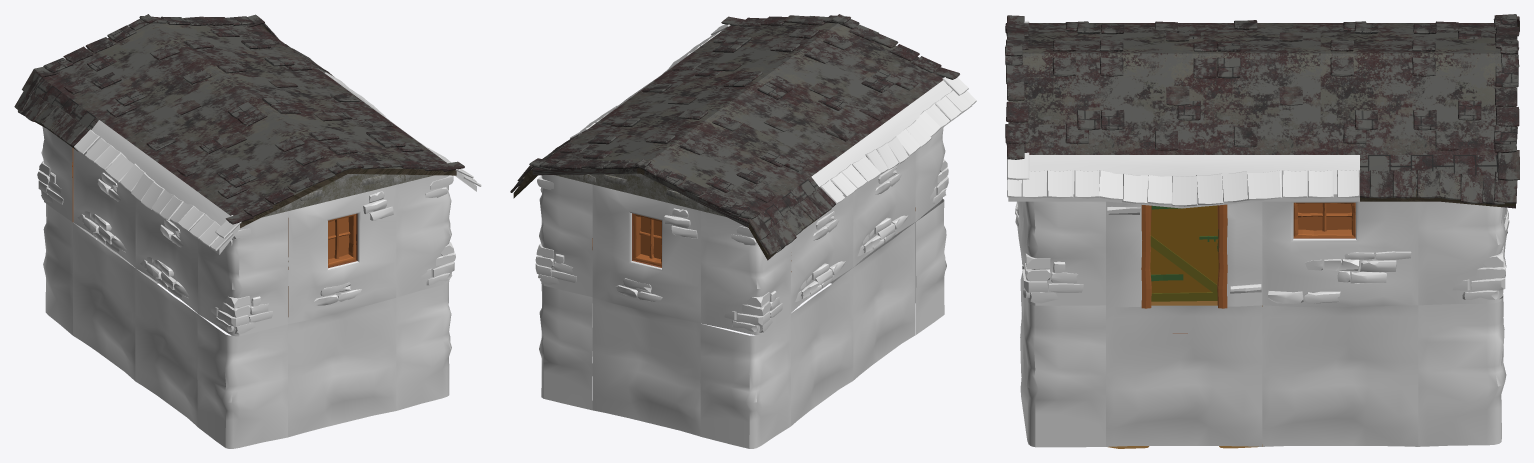
File: Modular_house_4.fbx
3 renders of one model, left to right at view 1: azimuth 30°, elevation 25°; view 2: azimuth 150°, elevation 25°; view 3: azimuth 270°, elevation 25°, orthographic. The views are drawn at different scales.
Parts seen in each view (by area): view 1: roof.044, underground.027, roof.045, roof.042, underground.026, wall.046, wall.047, Roof_long_strip_low.017, underground.023, underground.025, roof.043, underground.022 (+16 smaller); view 2: roof.044, underground.028, roof.045, underground.024, roof.042, wall.044, wall.045, underground.023, underground.025, roof.043, Roof_long_strip_low.017, underground.020 (+16 smaller); view 3: roof.042, underground.021, underground.019, roof.043, Roof_long_strip_low.015, underground.020, wall.041, underground.022, roof.044, Roof_long_strip_low.016, wall.042, wall.040 (+11 smaller).
Boxes of the visible parts, x1,y1,x2,y2 form: roof.044: (115, 76, 355, 228); underground.027: (288, 298, 396, 437); roof.045: (33, 14, 222, 130); roof.042: (223, 76, 464, 175); underground.026: (197, 314, 287, 448); wall.046: (288, 185, 396, 323); wall.047: (198, 211, 288, 336); Roof_long_strip_low.017: (74, 120, 241, 254); underground.023: (72, 223, 135, 380); underground.025: (135, 268, 197, 426); roof.043: (139, 14, 330, 87); underground.022: (396, 282, 451, 410); roof.044: (719, 14, 959, 164); underground.028: (592, 297, 700, 436); roof.045: (635, 111, 826, 227); underground.024: (700, 314, 790, 448); roof.042: (611, 15, 850, 112); wall.044: (592, 184, 700, 323); wall.045: (701, 211, 791, 334); underground.023: (791, 268, 853, 425); underground.025: (853, 222, 915, 380); roof.043: (529, 96, 718, 175); Roof_long_strip_low.017: (811, 77, 976, 208); underground.020: (539, 284, 592, 410); roof.042: (1005, 46, 1320, 159); underground.021: (1106, 305, 1262, 446); underground.019: (1262, 305, 1418, 446); roof.043: (1279, 46, 1519, 154); Roof_long_strip_low.015: (1007, 152, 1359, 208); underground.020: (1418, 297, 1506, 446); wall.041: (1262, 201, 1418, 306); underground.022: (1020, 297, 1105, 447); roof.044: (1005, 15, 1320, 56); Roof_long_strip_low.016: (1359, 150, 1519, 208); wall.042: (1418, 201, 1506, 305); wall.040: (1106, 201, 1262, 307).
Size of the model in its own units: 495 by 468 by 659.
